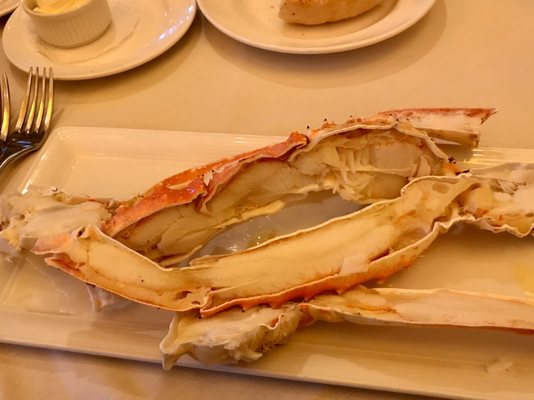burger: (0, 64, 55, 172)
pizza: (21, 0, 113, 48)
soup: (16, 100, 509, 360)
